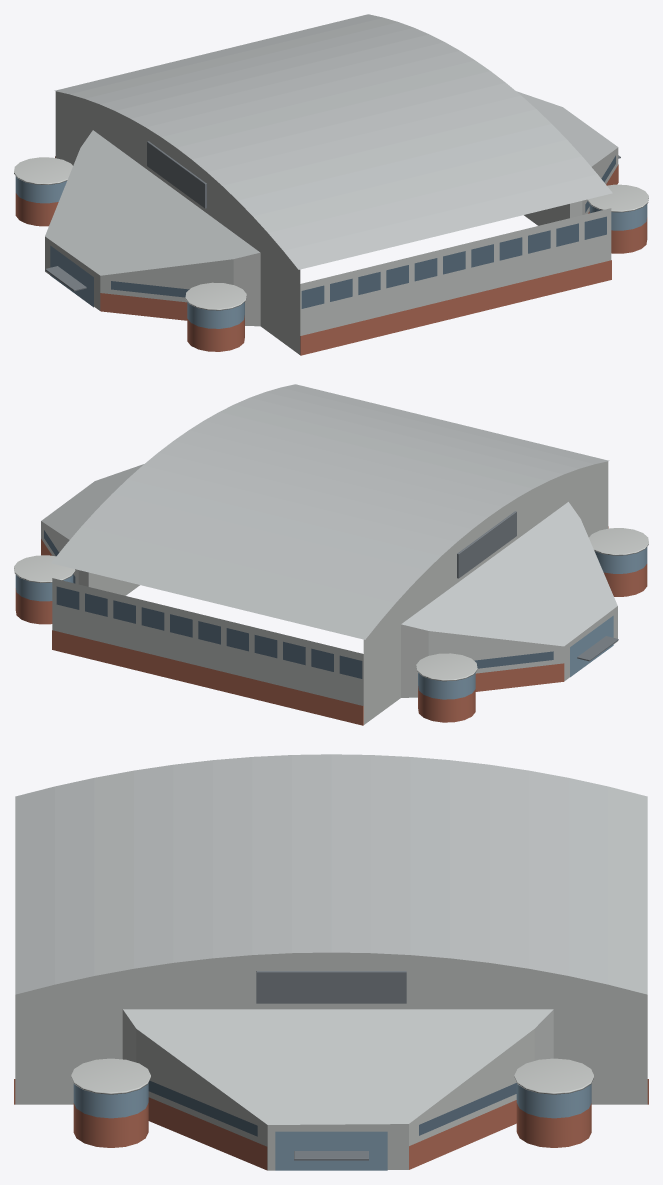
File: sat-frost-bank-center.glb
3 renders of one model, top to bottom at view 1: azimuth 30°, elevation 25°; view 2: azimuth 150°, elevation 25°; view 3: azimuth 270°, elevation 25°, orthographic. The views are drawn at different scales.
Visible parts, largest first — view 1: Frost Bank Center; view 2: Frost Bank Center; view 3: Frost Bank Center.
Part boxes in pixels (x1=…): Frost Bank Center: x1=14, y1=14, x2=648, y2=355; Frost Bank Center: x1=14, y1=384, x2=648, y2=725; Frost Bank Center: x1=14, y1=754, x2=648, y2=1170.
Size of the model in its own units: 174 by 36 by 135.
